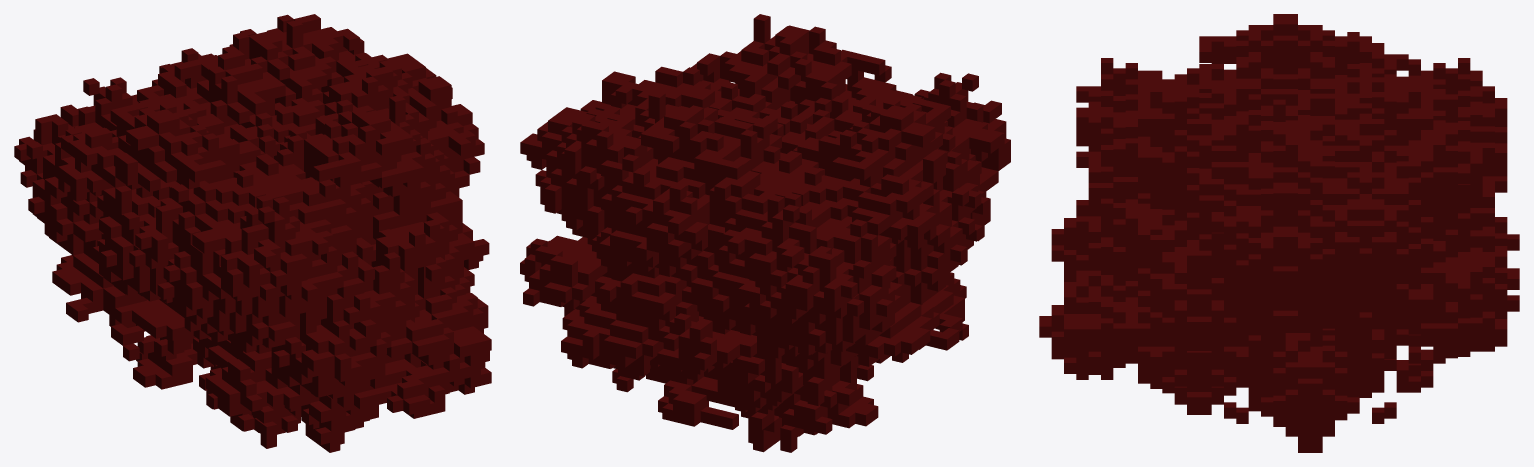
The model's file is bad-16.obj.
3 views of the same model, side by side, from view 1: azimuth 30°, elevation 25°; view 2: azimuth 150°, elevation 25°; view 3: azimuth 270°, elevation 25° (orthographic). The views are drawn at different scales.
Size of the model in its own units: 3.7 by 3.1 by 3.9.
Materials: 1 (1 with a texture image).
